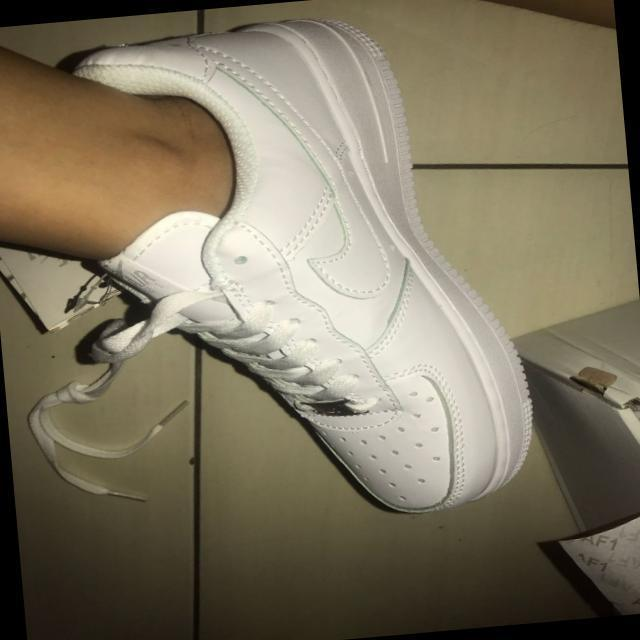nike fake air force: (0, 0, 548, 555)
